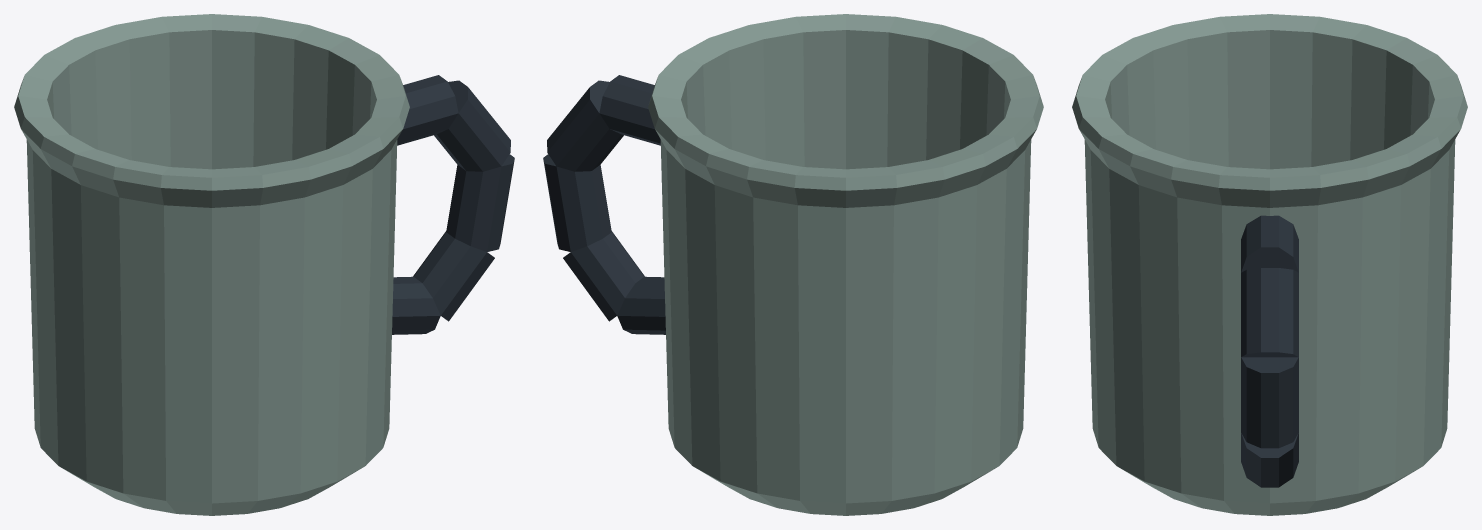
File: G-04_mug.glb
The picture shows the model from 3 angles, left to right: view 1: azimuth 30°, elevation 25°; view 2: azimuth 150°, elevation 25°; view 3: azimuth 270°, elevation 25°; orthographic projection.
Parts seen in each view (by area): view 1: G-04_mug; view 2: G-04_mug; view 3: G-04_mug.
Part boxes in pixels (x1,y1,x2,y2): G-04_mug: [14, 14, 514, 515]; G-04_mug: [543, 14, 1043, 515]; G-04_mug: [1072, 14, 1467, 515].
Bounding box in the file's own units: 0.1316 × 0.097 × 0.096.
